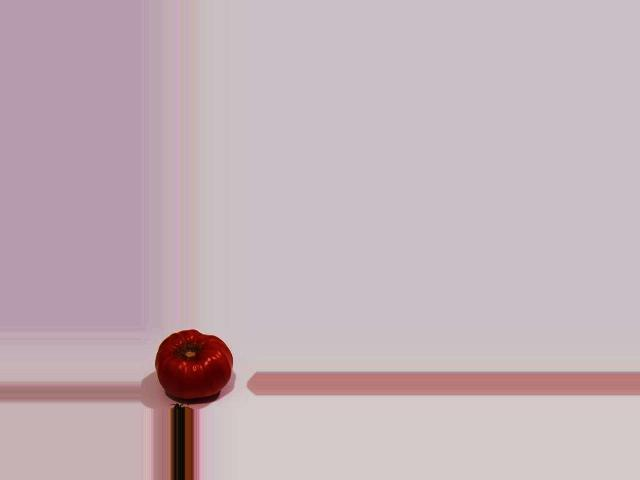tomato: (156, 330, 232, 398)
